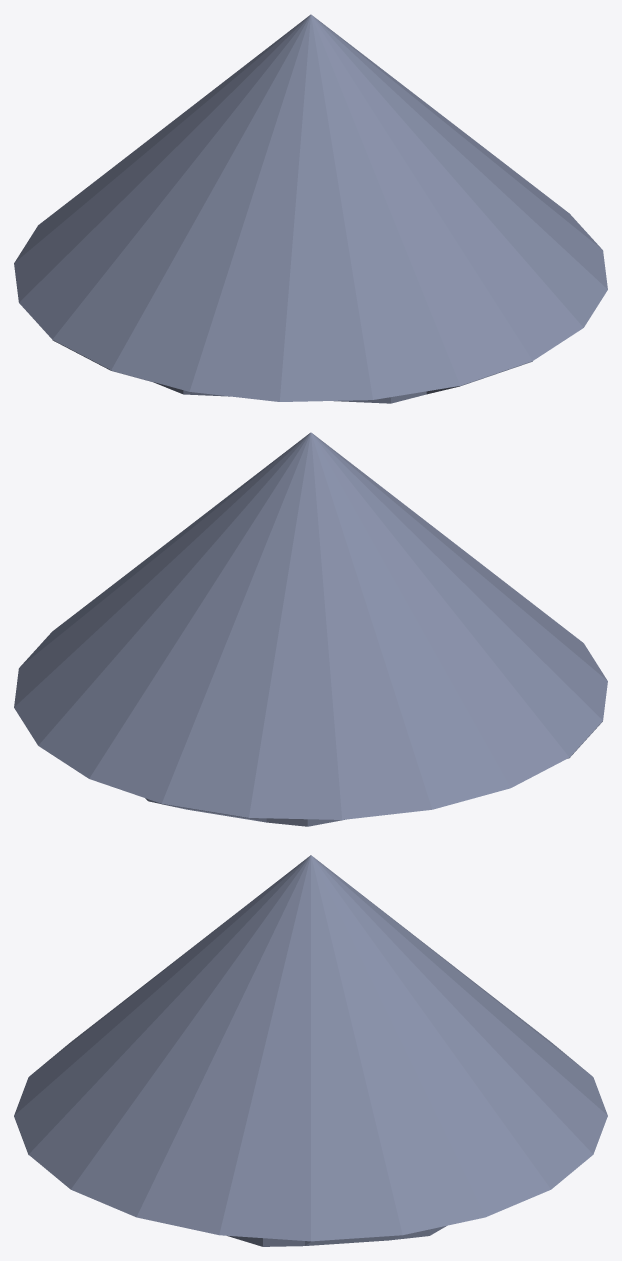
File: lamp2.fbx
3 views of the same model, one above another, from view 1: azimuth 30°, elevation 25°; view 2: azimuth 150°, elevation 25°; view 3: azimuth 270°, elevation 25° (orthographic).
Parts seen in each view (by area): view 1: pCone1; view 2: pCone1; view 3: pCone1.
Part boxes in pixels (<box>): pCone1: <box>14,14,607,403</box>; pCone1: <box>14,432,607,826</box>; pCone1: <box>14,855,607,1246</box>.
Size of the model in its own units: 4.13 by 2.5 by 4.13.
